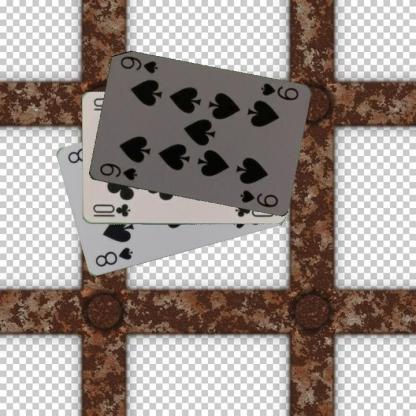10c: (90, 201, 132, 218)
8s: (92, 245, 134, 269)
9s: (96, 161, 138, 182), (258, 81, 300, 102)
